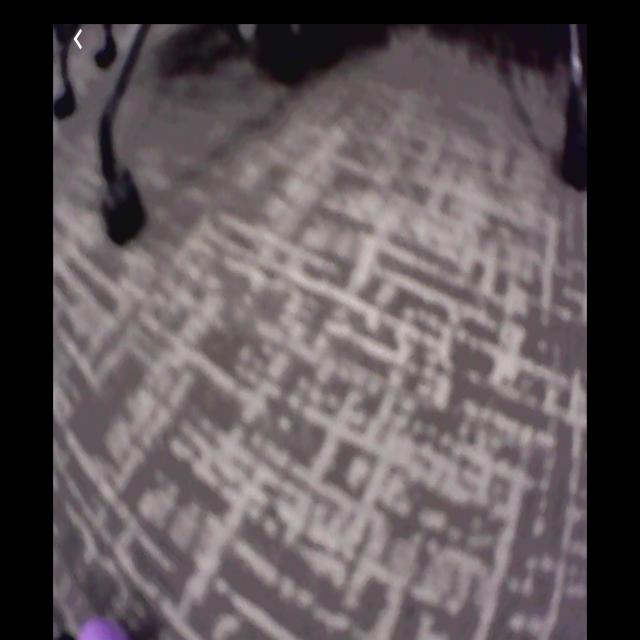ball: (78, 616, 140, 640)
